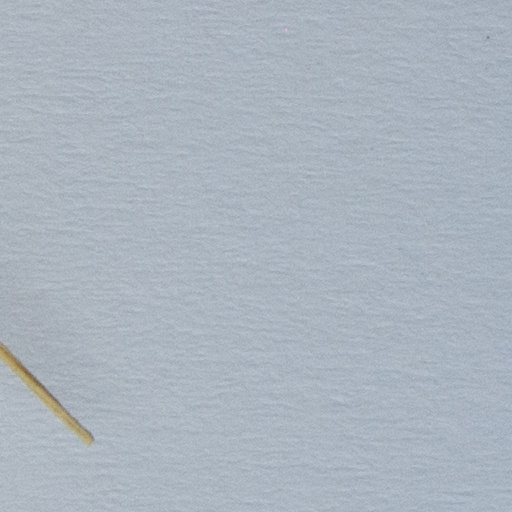Peel-poly: (0, 339, 83, 437)
